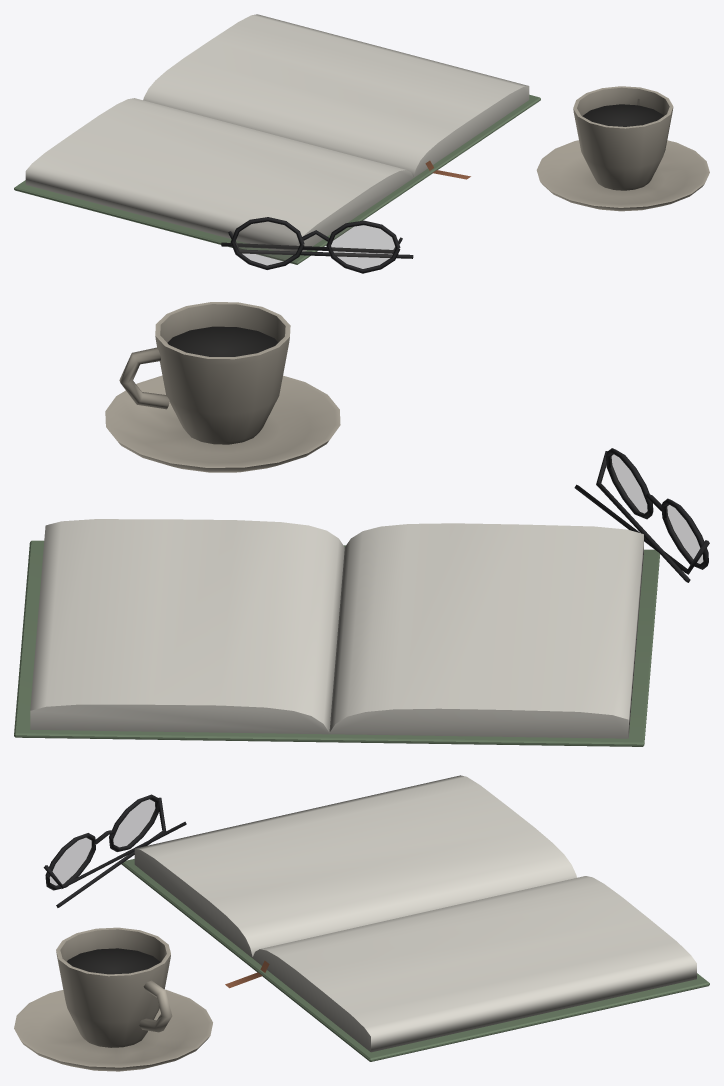
File: decor_d_side_reading.gltf
3 views of the same model, one above another, from view 1: azimuth 30°, elevation 25°; view 2: azimuth 150°, elevation 25°; view 3: azimuth 270°, elevation 25° (orthographic). The views are drawn at different scales.
Parts seen in each view (by area): view 1: DecorD_SideReading_Book01_Paper_NoCollide, DecorD_SideReading_Cup01_Stoneware_NoCollide, DecorD_SideReading_Spectacles01_Glass_NoCollide, DecorD_SideReading_Book01_Sage_NoCollide, DecorD_SideReading_Spectacles01_Black_NoCollide, DecorD_SideReading_Cup01_Charcoal_NoCollide; view 2: DecorD_SideReading_Book01_Paper_NoCollide, DecorD_SideReading_Cup01_Stoneware_NoCollide, DecorD_SideReading_Book01_Sage_NoCollide, DecorD_SideReading_Spectacles01_Black_NoCollide, DecorD_SideReading_Cup01_Charcoal_NoCollide, DecorD_SideReading_Spectacles01_Glass_NoCollide; view 3: DecorD_SideReading_Book01_Paper_NoCollide, DecorD_SideReading_Cup01_Stoneware_NoCollide, DecorD_SideReading_Book01_Sage_NoCollide, DecorD_SideReading_Spectacles01_Black_NoCollide, DecorD_SideReading_Spectacles01_Glass_NoCollide, DecorD_SideReading_Cup01_Charcoal_NoCollide.
Boxes of the visible parts, x1,y1,x2,y2 form: DecorD_SideReading_Book01_Paper_NoCollide: [25, 14, 529, 255]; DecorD_SideReading_Cup01_Stoneware_NoCollide: [536, 86, 709, 211]; DecorD_SideReading_Spectacles01_Glass_NoCollide: [235, 222, 395, 268]; DecorD_SideReading_Book01_Sage_NoCollide: [14, 94, 540, 264]; DecorD_SideReading_Spectacles01_Black_NoCollide: [221, 217, 413, 273]; DecorD_SideReading_Cup01_Charcoal_NoCollide: [582, 104, 663, 126]; DecorD_SideReading_Book01_Paper_NoCollide: [30, 519, 643, 738]; DecorD_SideReading_Cup01_Stoneware_NoCollide: [105, 302, 340, 472]; DecorD_SideReading_Book01_Sage_NoCollide: [14, 540, 660, 746]; DecorD_SideReading_Spectacles01_Black_NoCollide: [574, 448, 709, 582]; DecorD_SideReading_Cup01_Charcoal_NoCollide: [167, 326, 278, 356]; DecorD_SideReading_Spectacles01_Glass_NoCollide: [610, 454, 702, 563]; DecorD_SideReading_Book01_Paper_NoCollide: [134, 775, 696, 1052]; DecorD_SideReading_Cup01_Stoneware_NoCollide: [14, 927, 212, 1071]; DecorD_SideReading_Book01_Sage_NoCollide: [121, 859, 709, 1061]; DecorD_SideReading_Spectacles01_Black_NoCollide: [43, 794, 186, 907]; DecorD_SideReading_Spectacles01_Glass_NoCollide: [48, 799, 155, 885]; DecorD_SideReading_Cup01_Charcoal_NoCollide: [67, 948, 160, 974].
Size of the model in its own units: 0.4225 by 0.0621 by 0.4147.
